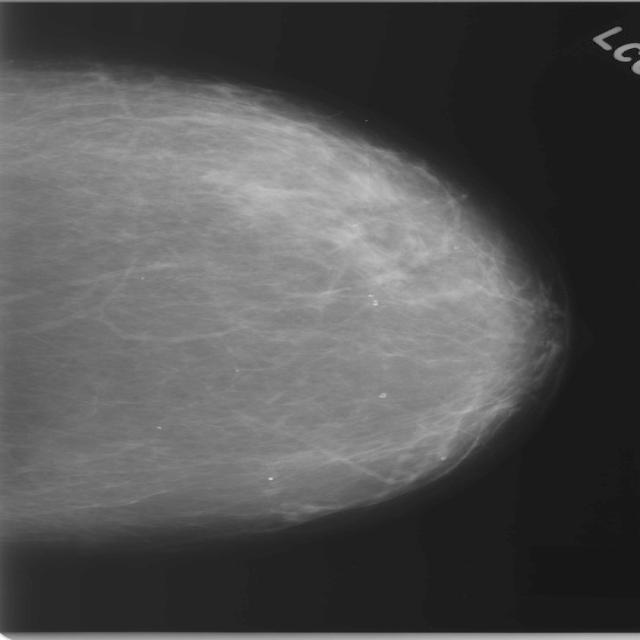tumour: (303, 288, 340, 305)
